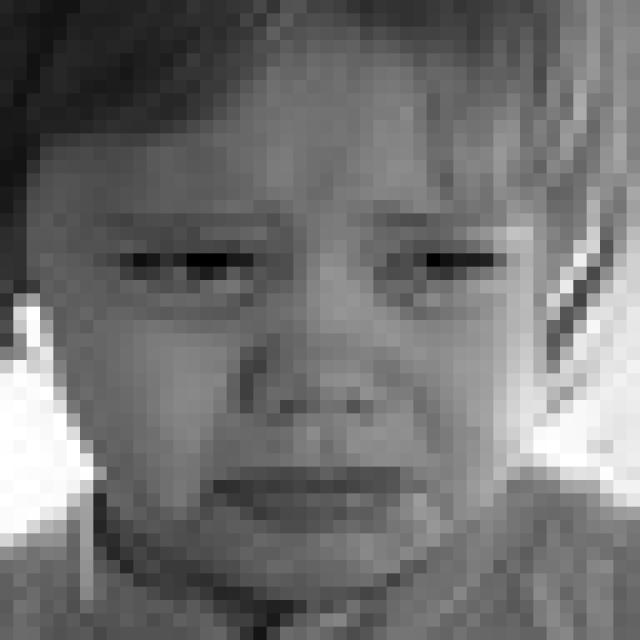sad: (93, 188, 530, 542)
